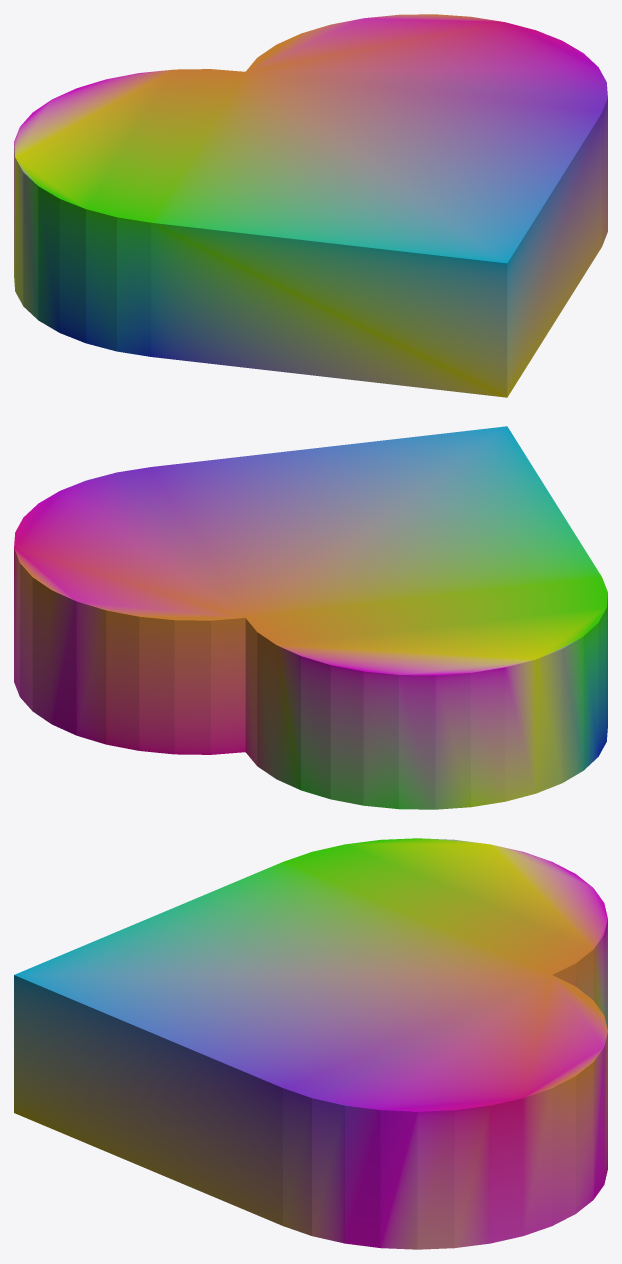
The model's file is heart.obj.
3 views of the same model, one above another, from view 1: azimuth 30°, elevation 25°; view 2: azimuth 150°, elevation 25°; view 3: azimuth 270°, elevation 25° (orthographic). The views are drawn at different scales.
Parts seen in each view (by area): view 1: Heart; view 2: Heart; view 3: Heart.
Boxes of the visible parts, x1,y1,x2,y2 form: Heart: (14, 14, 607, 397); Heart: (14, 426, 607, 809); Heart: (14, 838, 607, 1249).
Size of the model in its own units: 3.4 by 0.8 by 3.12.
